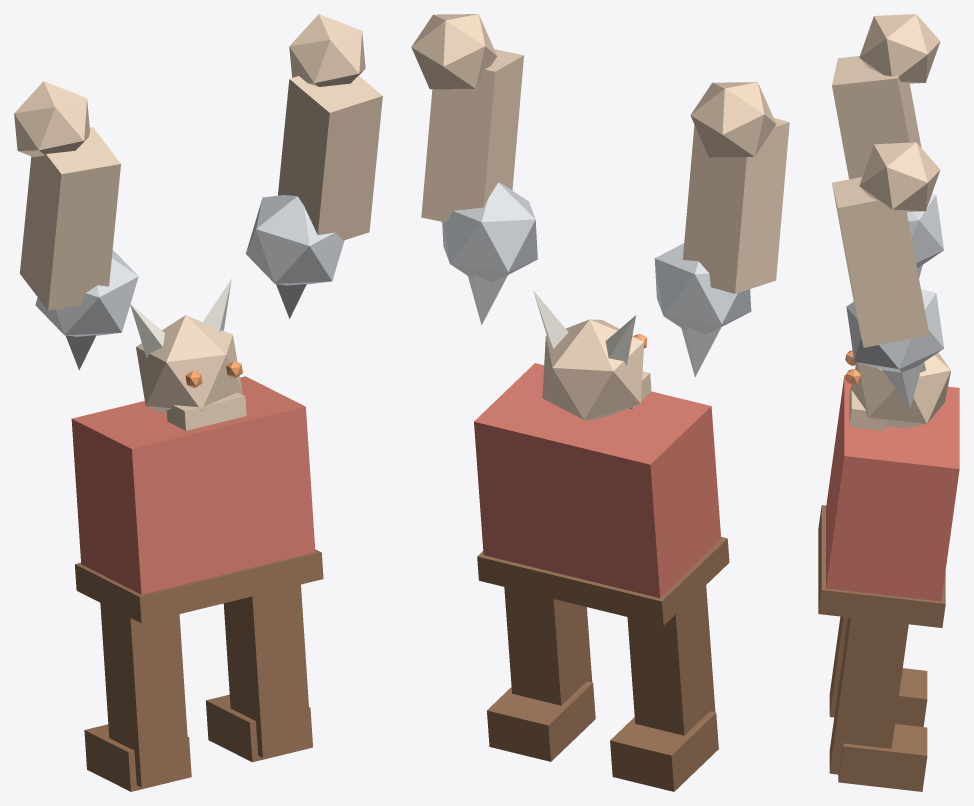
File: npcpose_brute_attack_04.glb
3 views of the same model, side by side, from view 1: azimuth 30°, elevation 25°; view 2: azimuth 150°, elevation 25°; view 3: azimuth 270°, elevation 25° (orthographic). The views are drawn at different scales.
Visible parts, largest first — view 1: npcpose; view 2: npcpose; view 3: npcpose.
Boxes of the visible parts, x1,y1,x2,y2 form: npcpose: [14, 14, 382, 791]; npcpose: [411, 14, 789, 791]; npcpose: [818, 14, 959, 791].
Bounding box in the file's own units: 1.43 × 2.79 × 0.5315.
